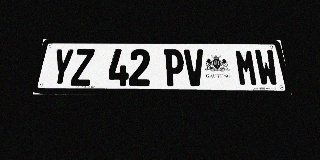2: (129, 49, 150, 86)
4: (108, 49, 130, 86)
M: (234, 49, 259, 86)
P: (164, 49, 185, 86)
V: (184, 49, 206, 86)
W: (254, 50, 280, 86)
Y: (49, 49, 75, 86)
Z: (70, 49, 95, 86)
